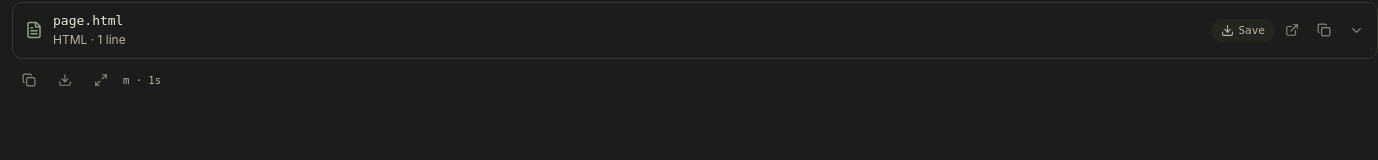
MessageBubble › folds a file's text away until asked
The width and height of the screenshot is (1378, 160).
Check: the text "<h1>Hi there</h1>" is not shown
Click the button named "Show the text" at coordinates (1356, 30), box left=1341, top=15, right=1371, bottom=45
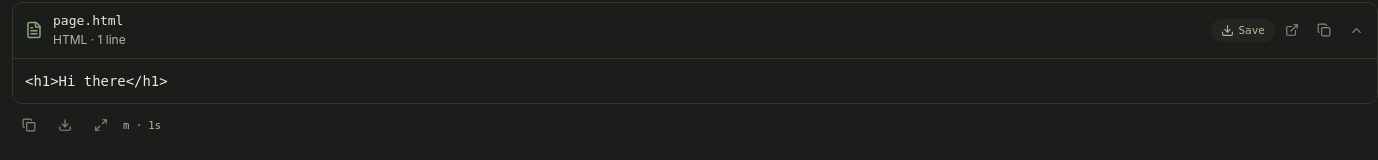
Check: the button named "Open page.html" is shown, box left=1277, top=15, right=1307, bottom=45
Check: the text "<h1>Hi there</h1>" is shown, box left=25, top=73, right=168, bottom=89
